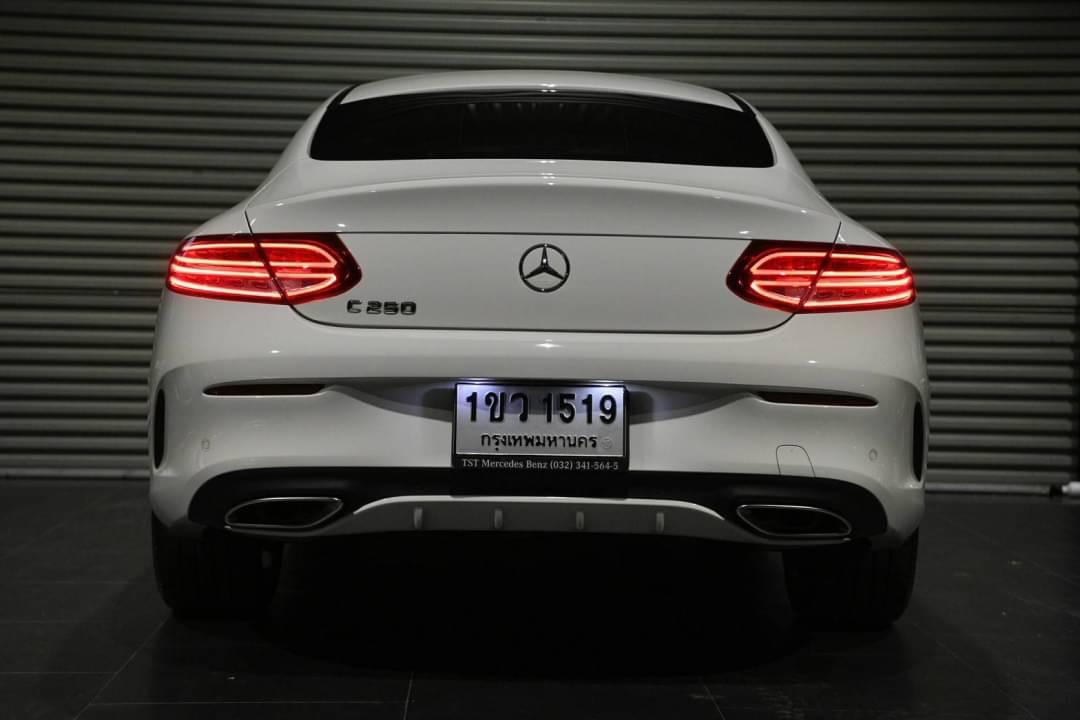license-plate: (450, 377, 632, 476)
